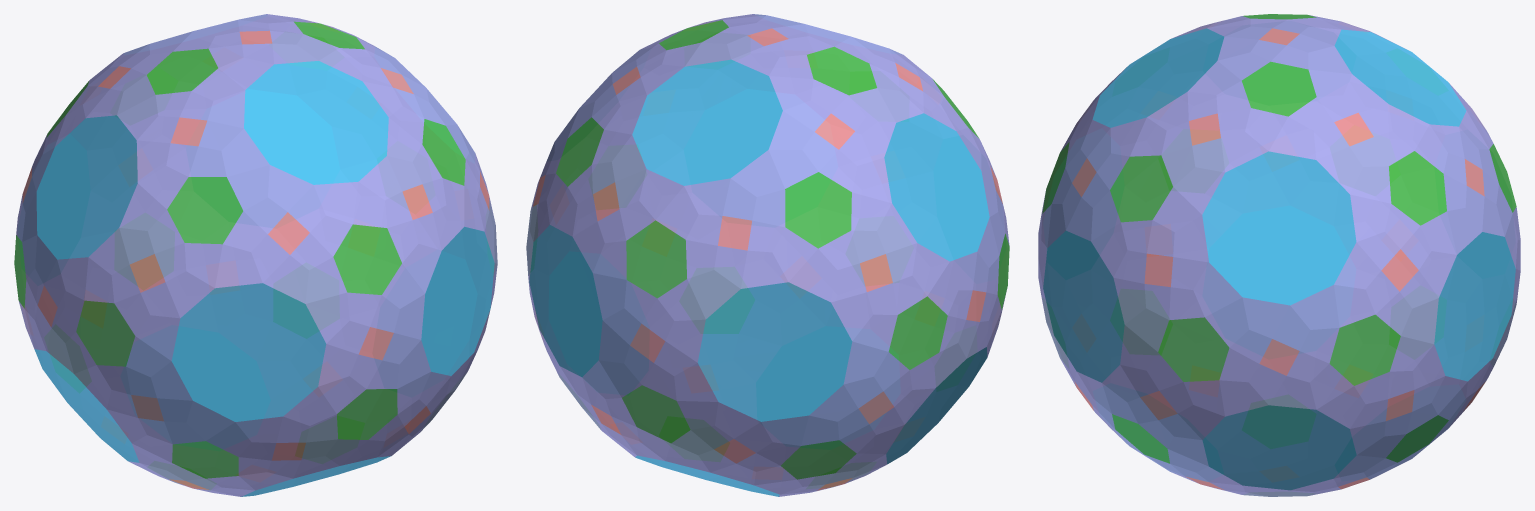
Rendered from PropellorTruncatedIcosidodecahedron.obj.
The picture shows the model from 3 angles, left to right: view 1: azimuth 30°, elevation 25°; view 2: azimuth 150°, elevation 25°; view 3: azimuth 270°, elevation 25°; orthographic projection.
Bounding box in the file's own units: 2 × 2 × 2.
